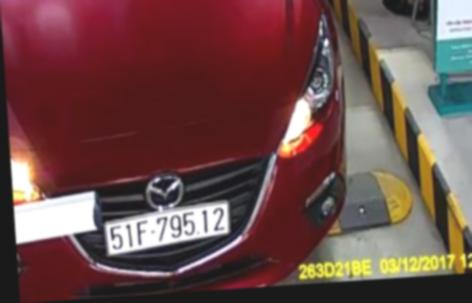License_Plate: (99, 202, 237, 259)
